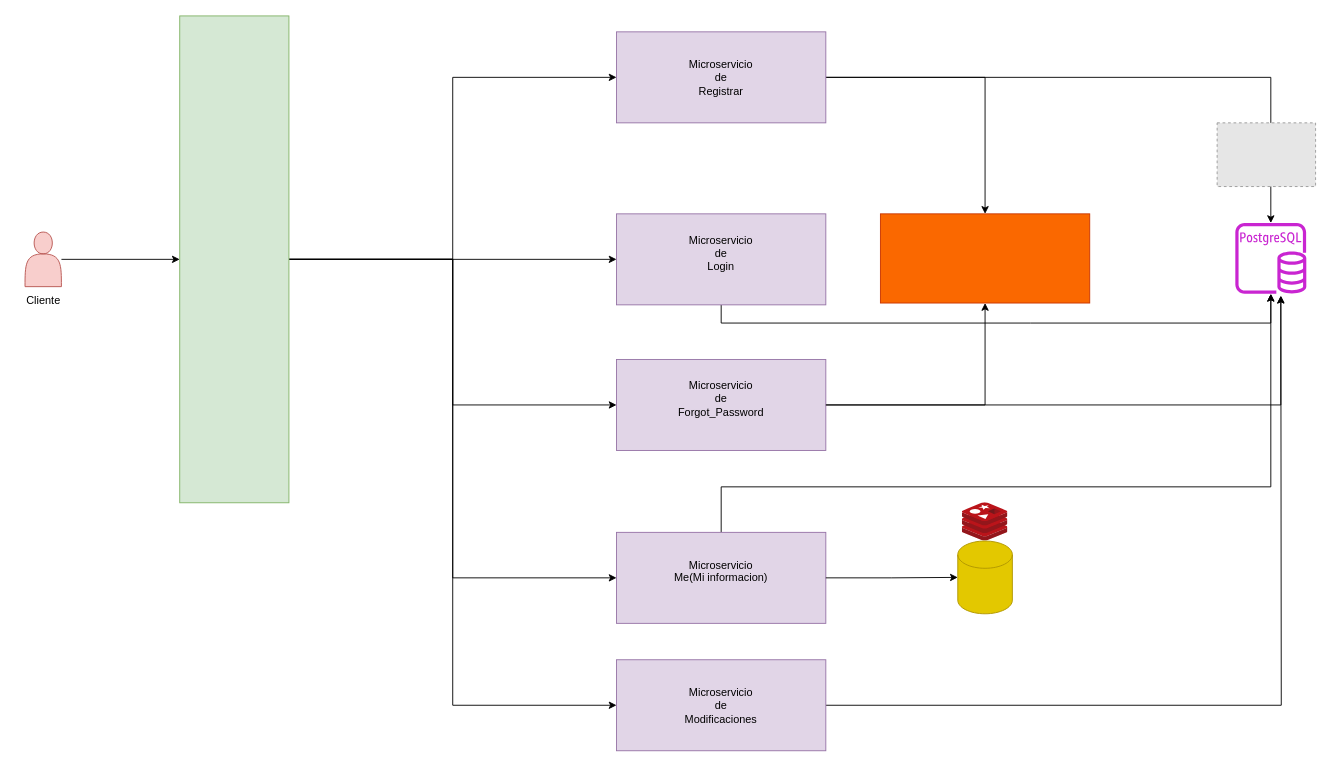
Image size: 1331x767. Some labels were removed from this diagram. Grey dashed boxes stand in for pictures. Each missing label, with the box of its shape:
Microservicio de Notificaciones: (880, 213, 1090, 303)
Redis: (957, 540, 1012, 614)
Server Auth ApiGateway: (179, 15, 289, 503)
